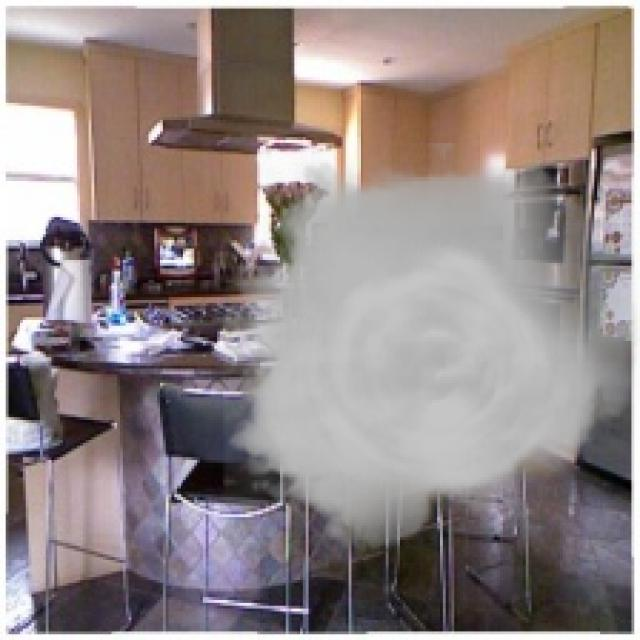smoke: (223, 143, 637, 566)
